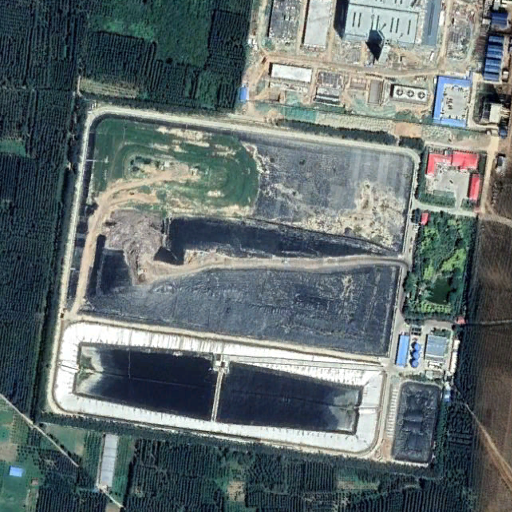lf: (83, 110, 418, 355)
